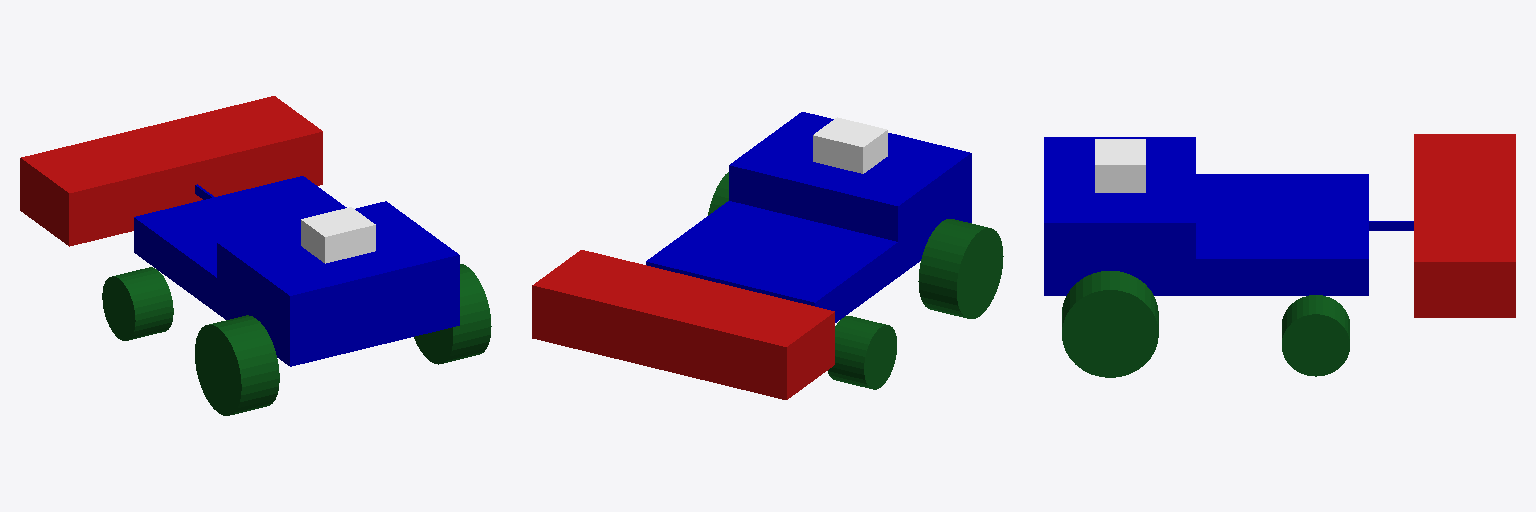
robot.urdf — lemower:
<?xml version="1.0"?>
<robot name="lemower">
    <link name="base_link">
        <visual>
            <geometry>
                <box size="0.2 0.32 0.04"/>
            </geometry>
            <material name="blue">
               <color rgba="0 0 .8 1"/>
            </material>
        </visual>
        <collision>
            <geometry>
                <box size="0.2 0.32 0.04"/>
            </geometry>
        </collision>     
        <inertial>
            <mass value="1.5"/>
            <inertia ixx="0.000020" ixy="0.0" ixz="0.0" iyy="0.000008" iyz="0.0" izz="0.000512"/>
            <origin xyz="0 0 0" rpy="0 0 0"/>
        </inertial>
    </link>
    <link name="electronics">
        <visual>
            <geometry>
                <box size="0.2 0.15 0.04"/>
            </geometry>
            <origin xyz="0 -0.085 0.04" rpy="0 0 0"/>
            <material name="blue">
               <color rgba="0 0 .8 1"/>
            </material>
        </visual> 
        <collision>
            <origin xyz="0 -0.085 0.04" rpy="0 0 0"/>
            <geometry>
                <box size="0.2 0.15 0.04"/>
            </geometry>
        </collision>
        <inertial>
            <mass value="0.4"/>
            <inertia ixx="0.0000012" ixy="0.0" ixz="0.0" iyy="0.000002" iyz="0.0" izz="0.00003"/>
            <origin xyz="0 0 0" rpy="0 0 0"/>
        </inertial>
    </link>
    <link name="lidar">
        <visual>
            <geometry>
                <box size="0.06 0.05 0.03"/>
            </geometry>
            <origin xyz="0 -0.085 0.075" rpy="0 0 0"/>
            <material name="black">
               <color rgba="1 1 1 1"/>
            </material>
        </visual> 
        <collision>
            <origin xyz="0 -0.085 0.075" rpy="0 0 0"/>
            <geometry>
                <box size="0.06 0.05 0.03"/>
            </geometry>
        </collision>
        <inertial>
            <mass value="0.1"/>
            <inertia ixx="0.00000002" ixy="0.0" ixz="0.0" iyy="0.000000027" iyz="0.0" izz="0.000000075"/>
            <origin xyz="0.03 0.075 0.015" rpy="0 0 0"/>
        </inertial>
    </link>
    <link name="bras decoupe">
        <visual>
            <geometry>
                <box size="0.003 0.06 0.01"/>
            </geometry>
            <origin xyz="0 0.025 0" rpy="0 0 0"/>
            <material name="blue">
               <color rgba="0 0 .8 1"/>
            </material>
        </visual> 
        <collision>
            <origin xyz="0 0.025 0" rpy="0 0 0"/>
            <geometry>
                <box size="0.003 0.06 0.01"/>
            </geometry>
        </collision>
        <inertial>
            <mass value="0.05"/>
            <inertia ixx="0.0000000015" ixy="0.0" ixz="0.0" iyy="0.000000000015" iyz="0.0" izz="0.0000000005"/>
            <origin xyz="0.0015 0.03 0.005" rpy="0 0 0"/>
        </inertial>
    </link>
    <link name="decoupe">
        <visual>
            <geometry>
                <box size="0.3 0.1 0.06"/>
            </geometry>
            <origin xyz="0 0.045 0" rpy="0 0 0"/>
            <material name="red">
               <color rgba="0.8 0.1 0.1 1"/>
            </material>
        </visual> 
        <collision>
            <origin xyz="0 0.045 0" rpy="0 0 0"/>
            <geometry>
                <box size="0.3 0.1 0.06"/>
            </geometry>
        </collision>
        <inertial>
            <mass value="0.5"/>
            <inertia ixx="0.0000015" ixy="0.0" ixz="0.0" iyy="0.0000135" iyz="0.0" izz="0.0000375"/>
            <origin xyz="0.15 0.05 0.03" rpy="0 0 0"/>
        </inertial>
    </link>

    <link name="Roue arrière gauche">
        <visual>
            <geometry>
                <cylinder length="0.045" radius="0.048"/>
            </geometry>
            <material name="green">
               <color rgba=".1 .4 .15 1"/>
            </material>
        </visual> 
        <collision>
            <geometry>
                <cylinder length="0.045" radius="0.048"/>
            </geometry>
        </collision>
        <inertial>
            <mass value="0.2"/>
            <inertia ixx="0.00014895" ixy="0.0" ixz="0.0" iyy="0.00014895" iyz="0.0" izz="0.0000384"/>
            <origin xyz="0 0 0" rpy="0 0 0"/>
        </inertial>
    </link>
    <link name="Roue arrière droite">
        <visual>
            <geometry>
                <cylinder length="0.045" radius="0.048"/>
            </geometry>
            <material name="green">
               <color rgba=".1 .4 .15 1"/>
            </material>
        </visual> 
        <collision>
            <geometry>
                <cylinder length="0.045" radius="0.048"/>
            </geometry>
        </collision>
        <inertial>
            <mass value="0.2"/>
            <inertia ixx="0.00014895" ixy="0.0" ixz="0.0" iyy="0.00014895" iyz="0.0" izz="0.0000384"/>
            <origin xyz="0 0 0" rpy="0 0 0"/>
        </inertial>
    </link>
    <link name="Roue avant gauche">
        <visual>
            <geometry>
                <cylinder length="0.045" radius="0.034"/>
            </geometry>
            <material name="green">
               <color rgba=".1 .4 .15 1"/>
            </material>
        </visual> 
        <collision>
            <geometry>
                <cylinder length="0.045" radius="0.034"/>
            </geometry>
        </collision>
        <inertial>
            <mass value="0.2"/>
            <inertia ixx="0.00009155" ixy="0.0" ixz="0.0" iyy="0.00009155" iyz="0.0" izz="0.000019266"/>
            <origin xyz="0 0 0" rpy="0 0 0"/>
        </inertial>
    </link>
    <link name="Roue avant droite">
        <visual>
            <geometry>
                <cylinder length="0.045" radius="0.034"/>
            </geometry>
            <material name="green">
               <color rgba=".1 .4 .15 1"/>
            </material>
        </visual> 
        <collision>
            <geometry>
                <cylinder length="0.045" radius="0.034"/>
            </geometry>
        </collision>
        <inertial>
            <mass value="0.2"/>
            <inertia ixx="0.00009155" ixy="0.0" ixz="0.0" iyy="0.00009155" iyz="0.0" izz="0.000019266"/>
            <origin xyz="0 0 0" rpy="0 0 0"/>
        </inertial>
    </link>

    <joint name="base_to_elec" type="fixed">
        <parent link="base_link"/>
        <child link="electronics"/>
    </joint>
    <joint name="elec_to_lidar" type="fixed">
        <parent link="electronics"/>
        <child link="lidar"/>
    </joint>
    <joint name="base_to_bras_decoupe" type="revolute">
        <parent link="base_link"/>
        <child link="bras decoupe"/>
        <origin xyz="0 0.160 0.01" rpy="0 0 0"/>
        <limit effort="1000.0" lower="-0.548" upper="0.548" velocity="0.5"/>      
        <axis xyz="1 0 0"/>
    </joint>
    <joint name="bras_decoupe_to_decoupe" type="revolute">
        <parent link="bras decoupe"/>
        <child link="decoupe"/>
        <axis xyz="1 0 0"/>
        <origin xyz="0 0.05 0" rpy="0 0 0"/>
        <limit effort="1000.0" lower="-0.548" upper="0.548" velocity="0.5"/>
    </joint>
    <joint name="base_to_roue_arriere_gauche" type="continuous">
        <parent link="base_link"/>
        <child link="Roue arrière gauche"/>
        <origin xyz="-0.125 -0.095 -0.039" rpy="0 1.5708 0"/>
        <axis xyz="0 0 1"/>
    </joint>
    <joint name="base_to_roue_arriere_droite" type="continuous">
        <parent link="base_link"/>
        <child link="Roue arrière droite"/>
        <origin xyz="0.125 -0.095 -0.039" rpy="0 1.5708 0"/>
        <axis xyz="0 0 1"/>
    </joint>
    <joint name="base_to_roue_avant_gauche" type="continuous">
        <parent link="base_link"/>
        <child link="Roue avant gauche"/>
        <origin xyz="-0.125 0.108 -0.0515" rpy="0 1.5708 0"/>
        <axis xyz="0 0 1"/>
    </joint>
    <joint name="base_to_roue_avant_droite" type="continuous">
        <parent link="base_link"/>
        <child link="Roue avant droite"/>
        <origin xyz="0.125 0.108 -0.0515" rpy="0 1.5708 0"/>
        <axis xyz="0 0 1"/>
    </joint>
</robot>

--- Render facts (derived) ---
The picture shows the robot from 3 angles, left to right: view 1: azimuth 30°, elevation 25°; view 2: azimuth 150°, elevation 25°; view 3: azimuth 270°, elevation 25°; orthographic projection.
Robot: lemower — 9 links, 8 joints (2 revolute, 4 continuous, 2 fixed); root link base_link; default pose: every joint at zero.
Links seen in each view (by area): view 1: decoupe, base_link, electronics, Roue arrière gauche, Roue avant gauche, Roue arrière droite, lidar; view 2: decoupe, base_link, electronics, Roue arrière gauche, Roue avant gauche, lidar; view 3: base_link, decoupe, electronics, Roue arrière droite, Roue avant droite, lidar.
Boxes of the visible links, x1=… form: decoupe: x1=20, y1=96, x2=322, y2=246; base_link: x1=134, y1=176, x2=459, y2=366; electronics: x1=217, y1=201, x2=459, y2=330; Roue arrière gauche: x1=195, y1=315, x2=279, y2=415; Roue avant gauche: x1=102, y1=267, x2=173, y2=340; Roue arrière droite: x1=414, y1=264, x2=491, y2=364; lidar: x1=301, y1=207, x2=375, y2=263; decoupe: x1=532, y1=250, x2=834, y2=399; base_link: x1=646, y1=188, x2=971, y2=322; electronics: x1=729, y1=112, x2=971, y2=241; Roue arrière gauche: x1=918, y1=219, x2=1003, y2=318; Roue avant gauche: x1=828, y1=316, x2=896, y2=389; lidar: x1=813, y1=117, x2=887, y2=173; base_link: x1=1044, y1=174, x2=1368, y2=295; decoupe: x1=1414, y1=134, x2=1515, y2=317; electronics: x1=1044, y1=137, x2=1195, y2=258; Roue arrière droite: x1=1062, y1=271, x2=1158, y2=377; Roue avant droite: x1=1282, y1=295, x2=1349, y2=376; lidar: x1=1095, y1=139, x2=1145, y2=192.
Size in the robot's own frame: 0.3 by 0.465 by 0.177 metres.
Geometry: primitives only (box / cylinder / sphere), no mesh files.
